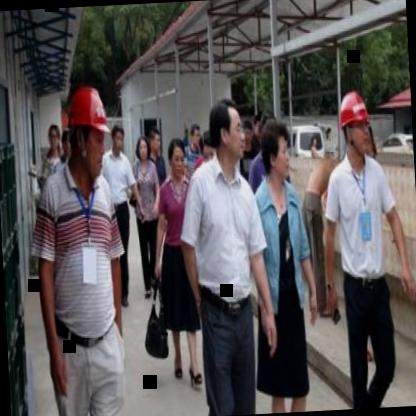head: (205, 95, 246, 170), (260, 120, 294, 184), (166, 136, 188, 180), (108, 122, 126, 154), (44, 119, 61, 152), (148, 124, 163, 157), (188, 122, 204, 152), (133, 134, 150, 162)
helmet: (60, 83, 112, 179), (330, 86, 375, 160)
